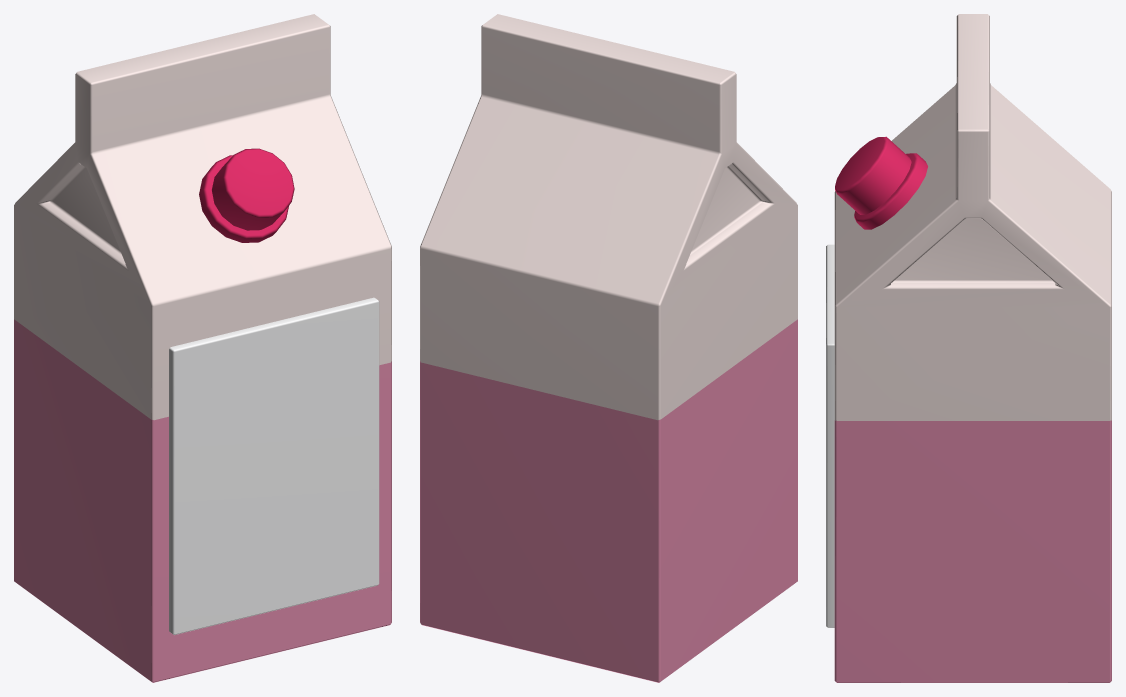
File: Carton_Box_2.fbx
The picture shows the model from 3 angles, left to right: view 1: azimuth 30°, elevation 25°; view 2: azimuth 150°, elevation 25°; view 3: azimuth 270°, elevation 25°; orthographic projection.
Parts seen in each view (by area): view 1: Carton_Box_2; view 2: Carton_Box_2; view 3: Carton_Box_2.
Boxes of the visible parts, x1,y1,x2,y2 form: Carton_Box_2: (14, 14, 391, 682); Carton_Box_2: (420, 14, 797, 682); Carton_Box_2: (826, 14, 1111, 682).
Bounding box in the file's own units: 14.27 × 31.44 × 14.72.
